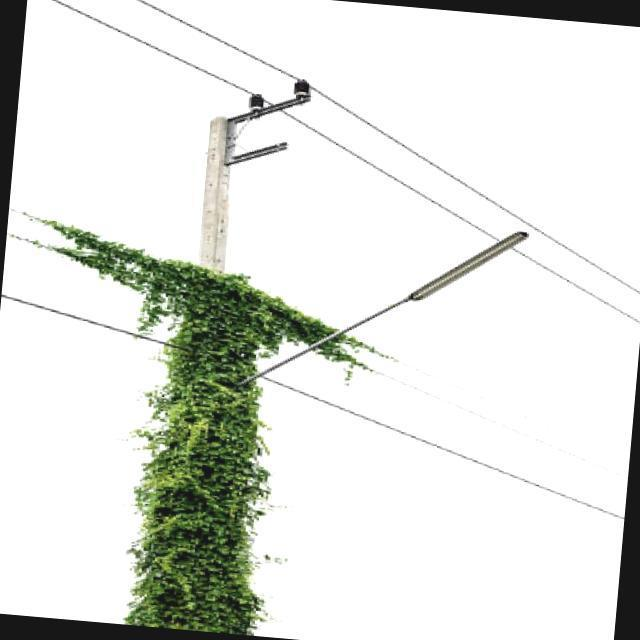critical vegetation: (112, 95, 325, 628)
